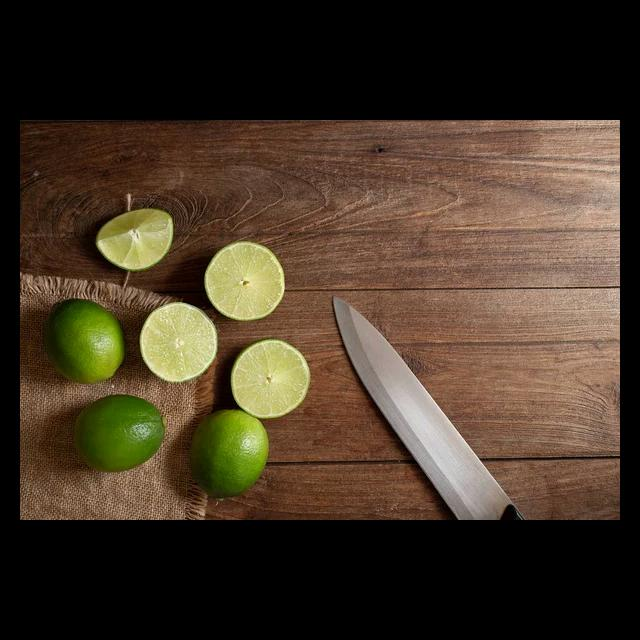lime: (185, 403, 275, 502), (66, 393, 171, 475), (42, 293, 129, 387)
